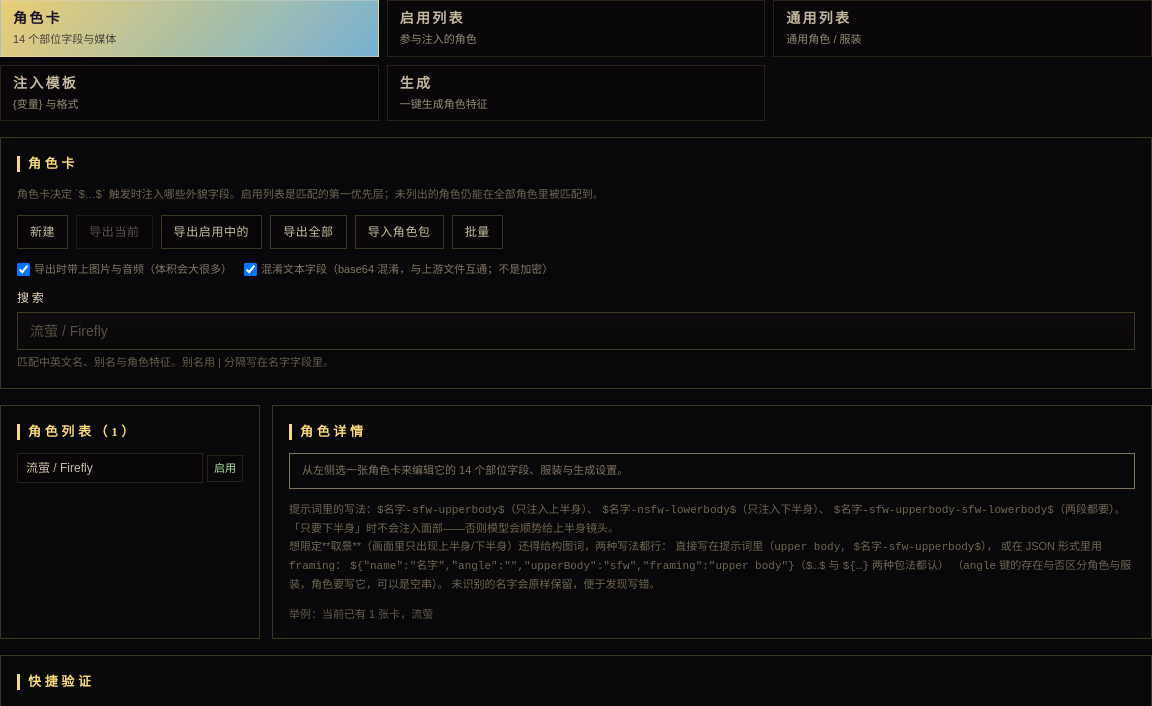
Test: 角色管理面板 › 生成页签的预设默认空白，并提示去导入
Step 1. Click the button "生成 一键生成角色特征" → (416, 83), box [387,64,765,121]
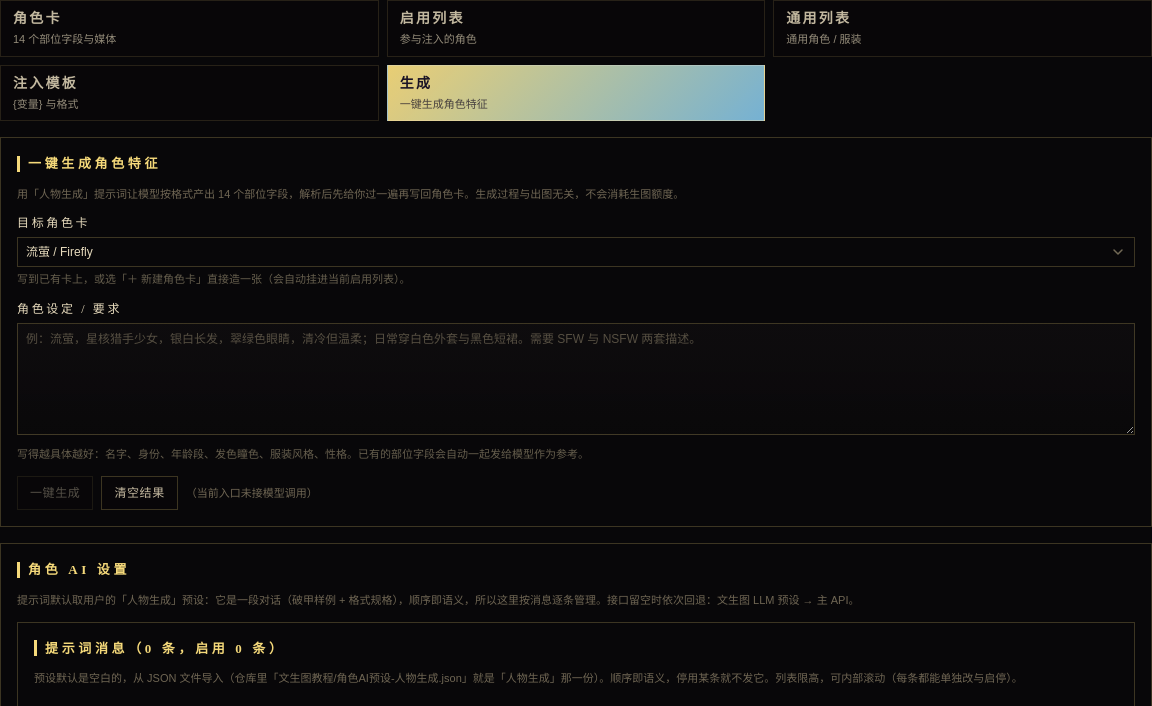
expect the text "角色AI预设-人物生成.json" is shown: met, box [34,672,1023,684]
expect the text "提示词消息（0 条，启用 0 条）" is shown: met, box [45,638,286,658]
